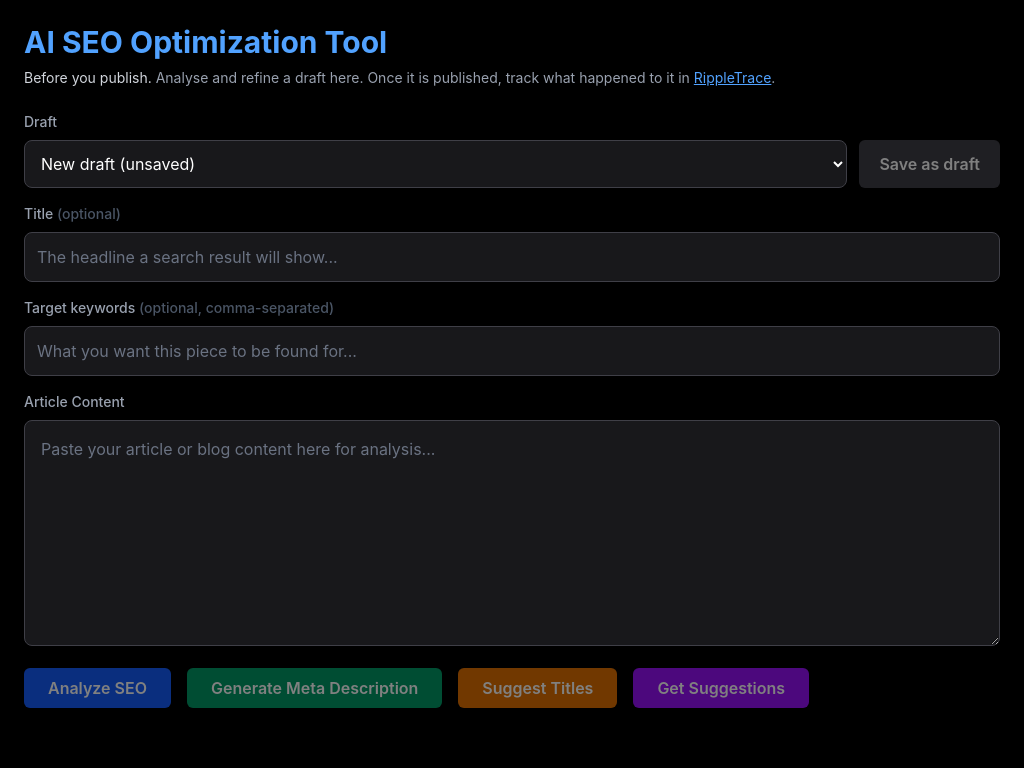
Test: SEO tool title and character budgets › counts body words while they are being written
In the text box with placeholder "Paste your article or blog content here for analysis...": {"x": 512, "y": 533} [24,420,1000,646], type "one two three four five"
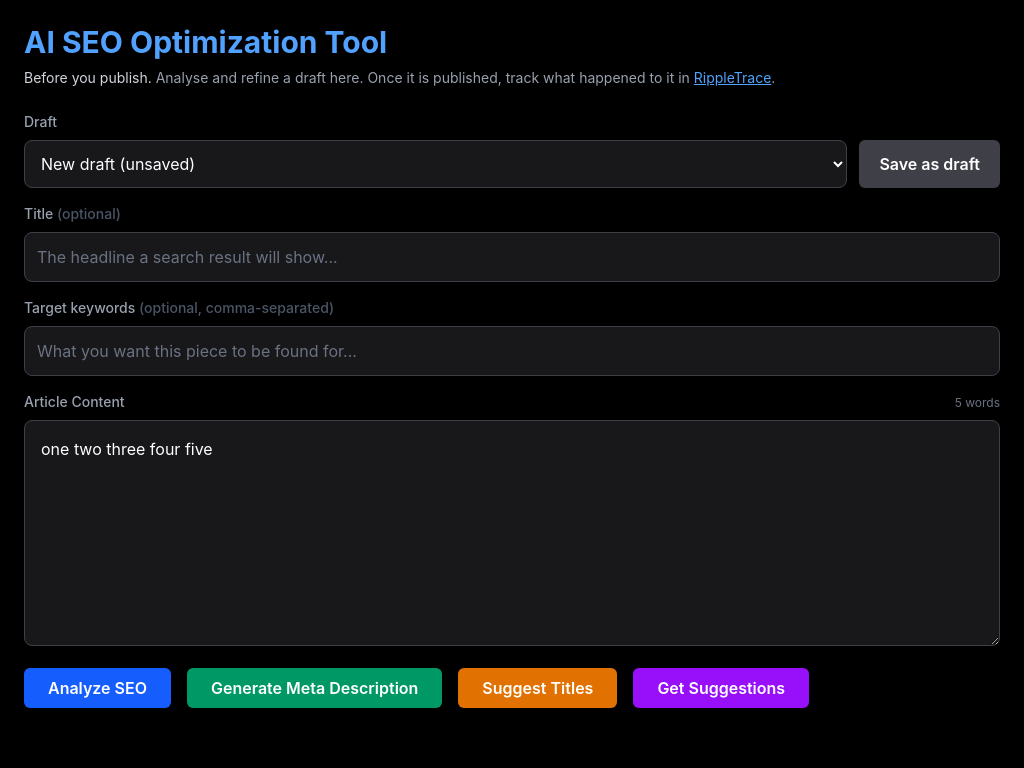
Result: the text with test id "live-word-count" reads "5 words" at [955,395,1000,411]
